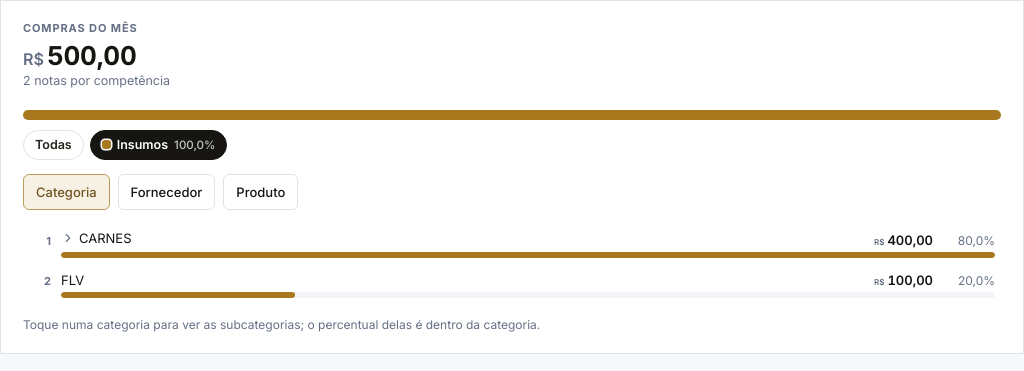
Test: subcategorias na aba Categoria › aba Produto não tem subníveis
Click the tab "Produto".
click(261, 192)  # box 223,174 -> 298,210
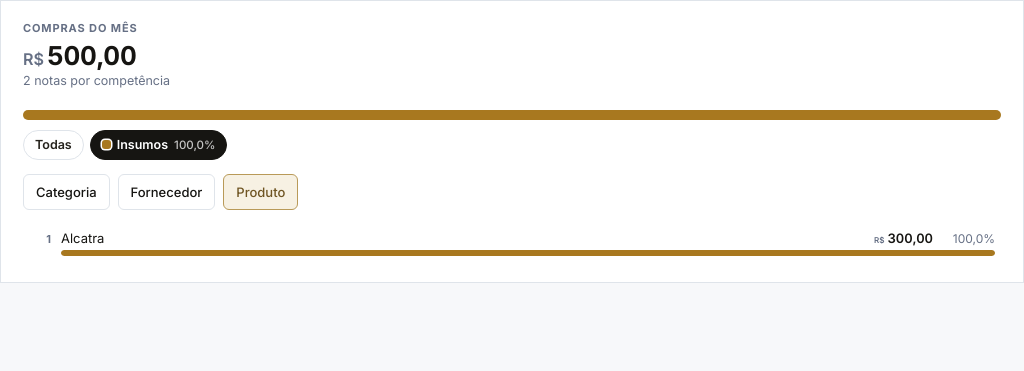
Expected: the text "ver as subcategorias" is gone
